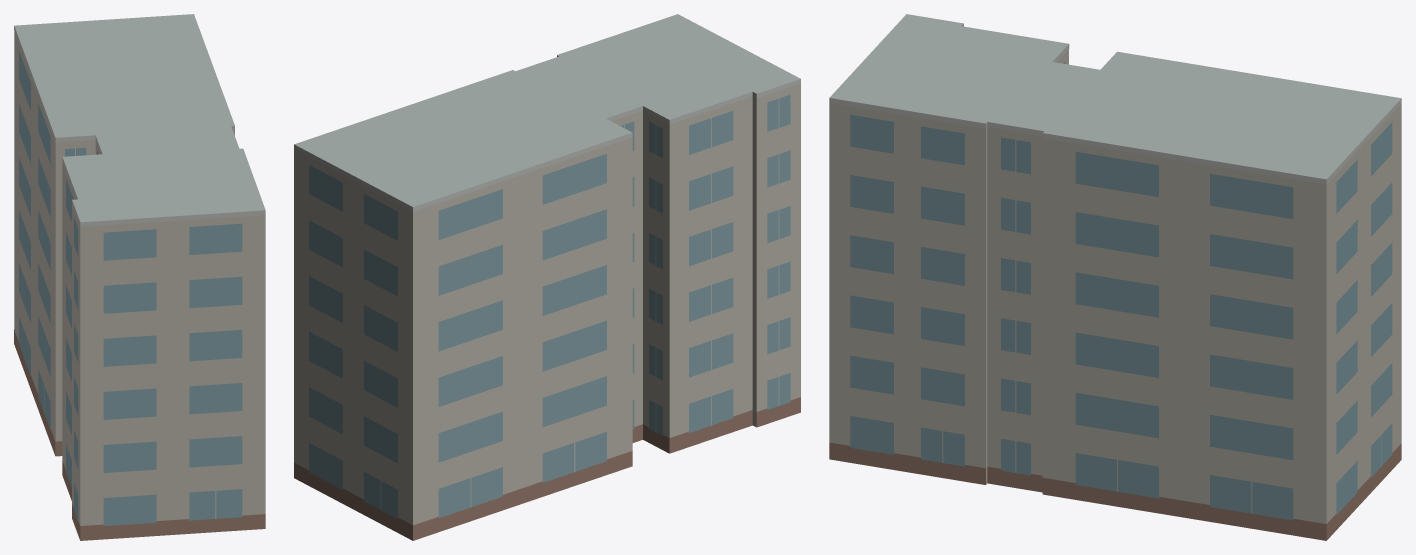
The model's file is survey-upis-32671074.glb.
3 views of the same model, side by side, from view 1: azimuth 30°, elevation 25°; view 2: azimuth 150°, elevation 25°; view 3: azimuth 270°, elevation 25° (orthographic). The views are drawn at different scales.
Parts seen in each view (by area): view 1: survey-upis-32671074.tmp; view 2: survey-upis-32671074.tmp; view 3: survey-upis-32671074.tmp.
Part boxes in pixels (left/top/right/bottom): survey-upis-32671074.tmp: left=14, top=14, right=265, bottom=540; survey-upis-32671074.tmp: left=294, top=14, right=800, bottom=540; survey-upis-32671074.tmp: left=829, top=14, right=1401, bottom=540.
Size of the model in its own units: 16.99 by 17.3 by 24.83.
